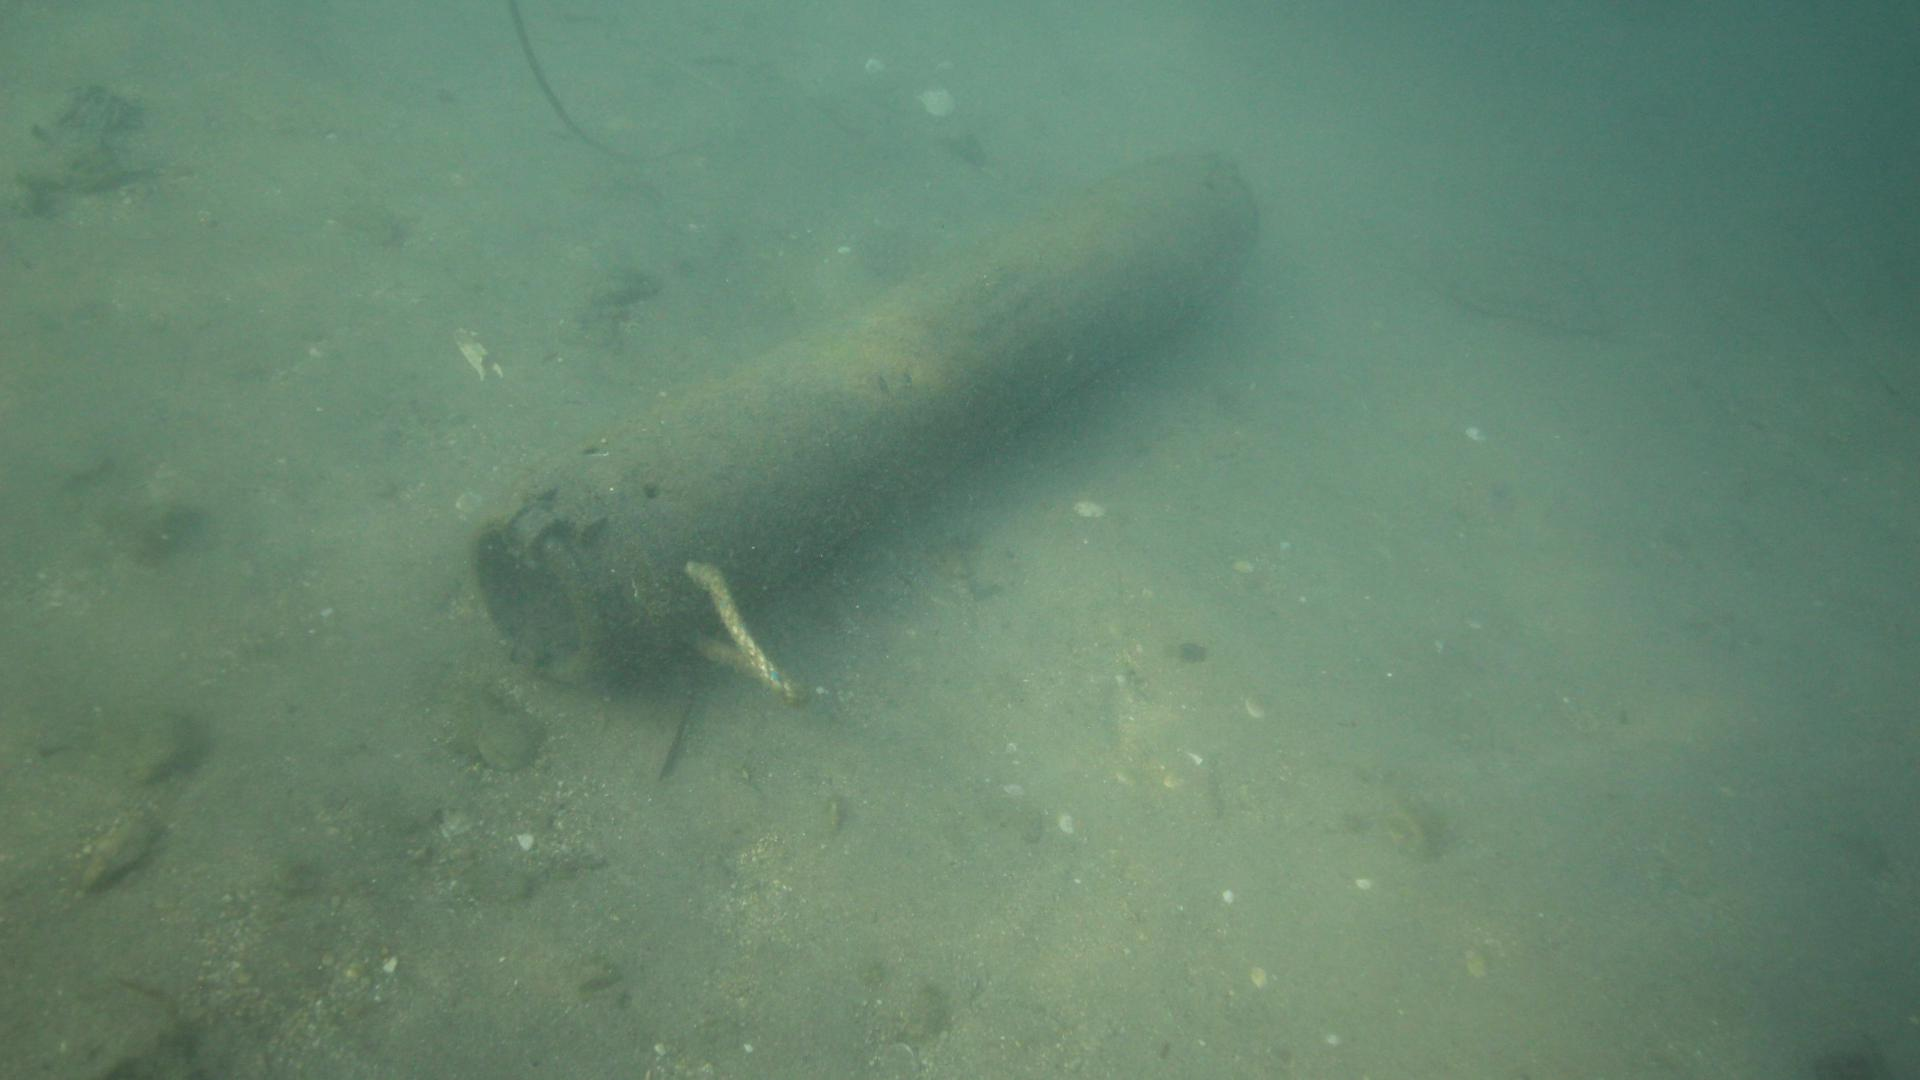eel fish trap: (464, 149, 1258, 684)
rope: (682, 556, 800, 708)
